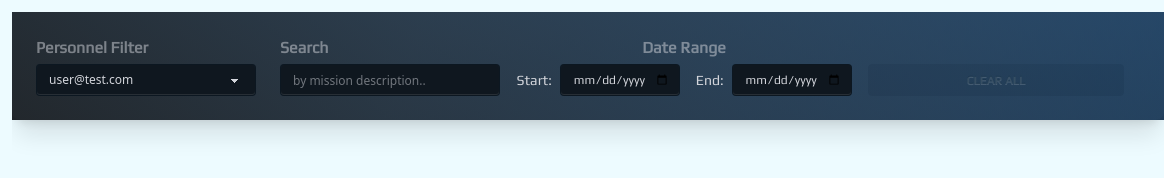
Test case: FiltersContainer › typing in the search input updates searchValue in context
The image size is (1164, 178).
Type "test mission" into the field with placeholder "by mission description.." at (390, 80), box [280,64,500,96]
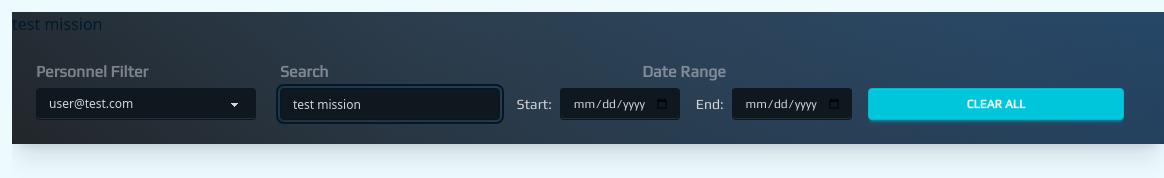
Expected: the text with test id "search-value" reads "test mission", [12,13,102,35]
